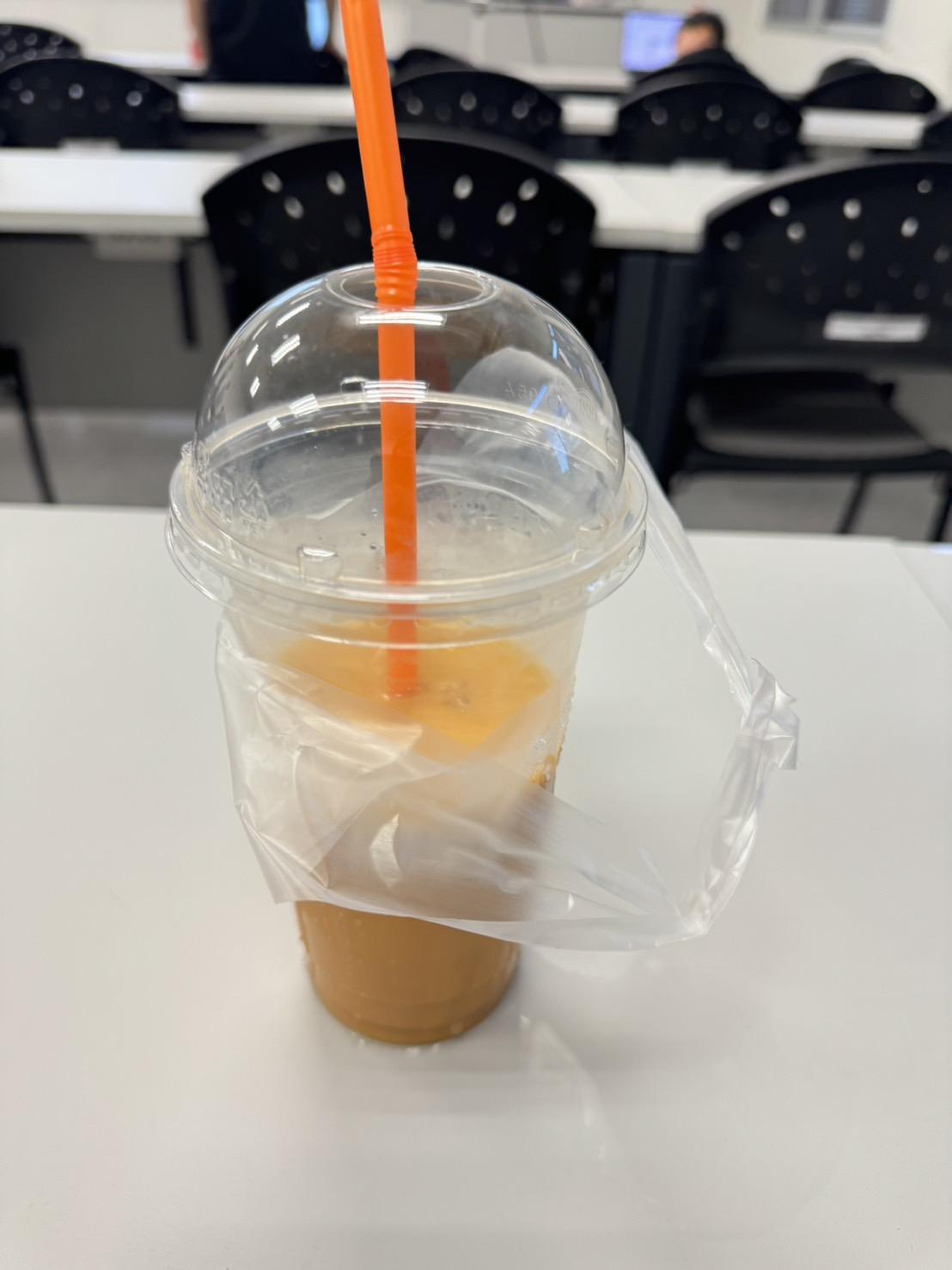cup: (168, 262, 795, 1045)
